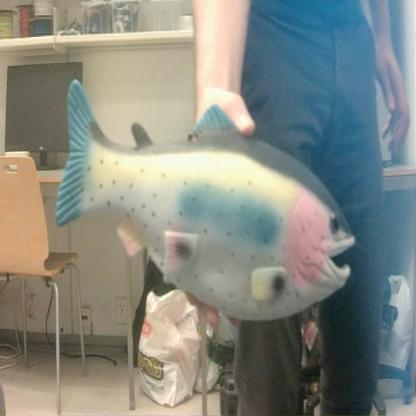rubberfish: (50, 65, 360, 325)
